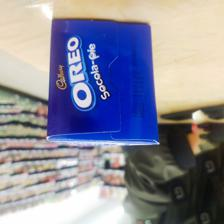Oreo: (47, 18, 161, 150)
